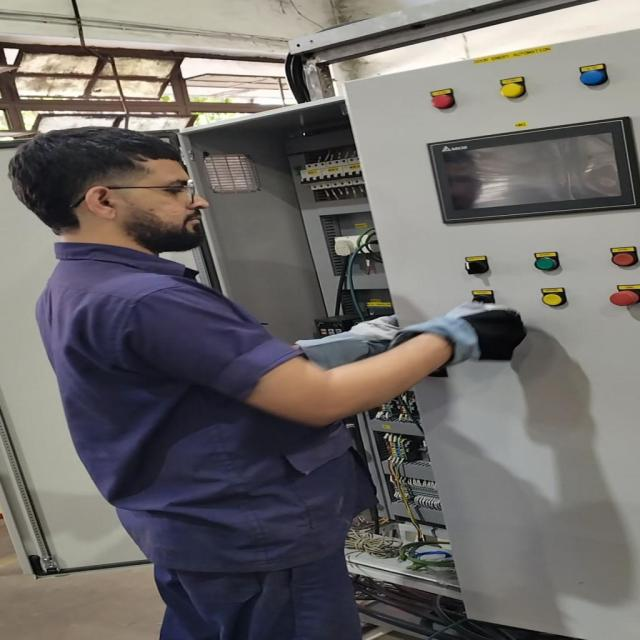Gloves-Detection: (296, 318, 528, 378)
